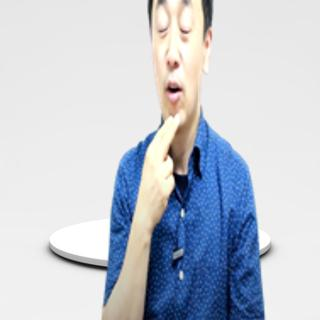DHAVE: (132, 112, 189, 239)
